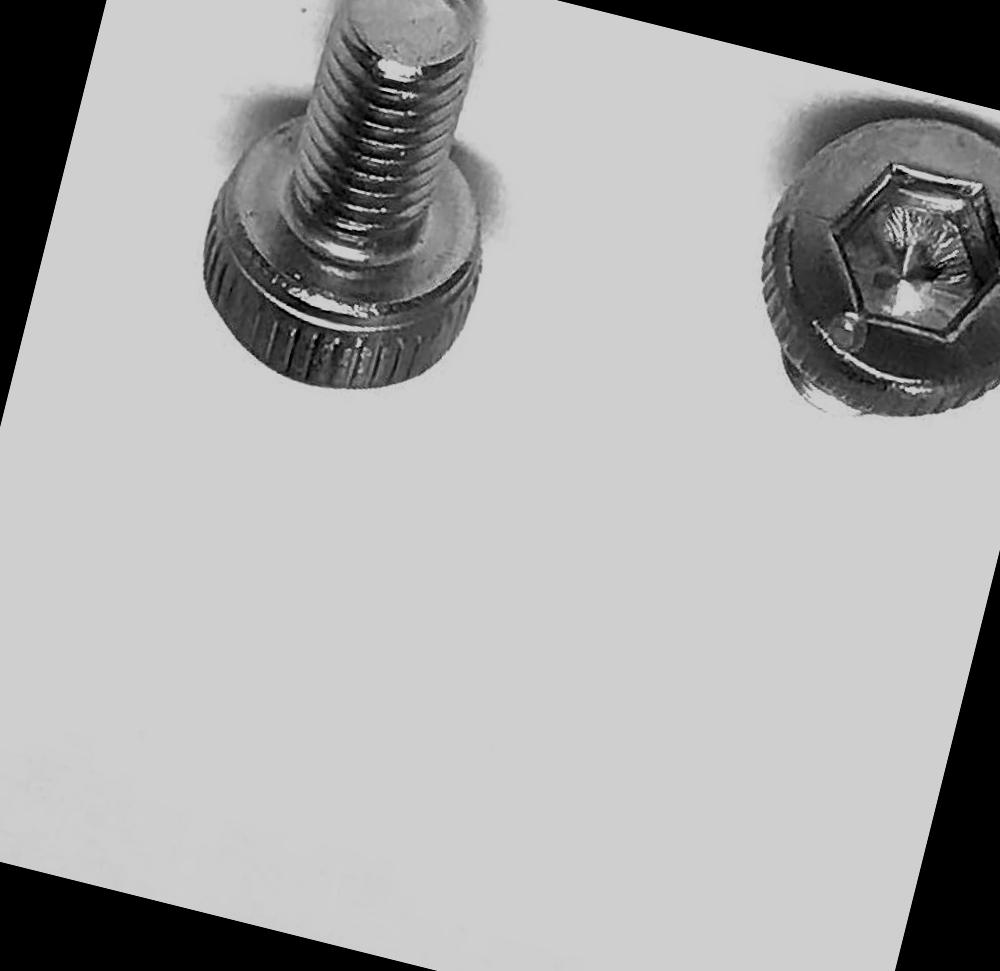slotted: (733, 87, 1000, 442)
